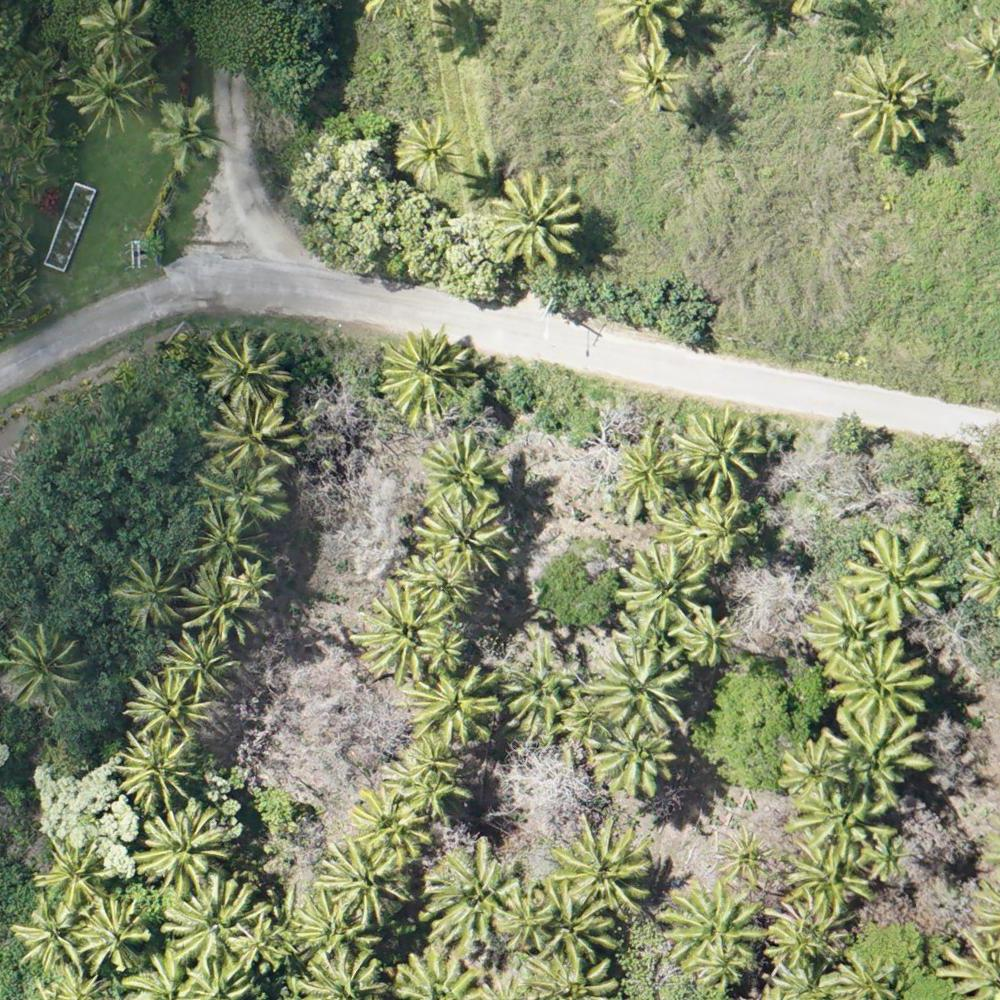Palm: (835, 50, 937, 154), (552, 814, 655, 914), (593, 632, 695, 731), (661, 881, 764, 979), (826, 706, 930, 800), (825, 634, 926, 729), (378, 325, 473, 424), (430, 844, 519, 947), (849, 530, 943, 625), (355, 583, 450, 674), (162, 876, 261, 963), (614, 541, 706, 633), (315, 835, 405, 925), (415, 491, 508, 578), (486, 168, 575, 258), (347, 780, 438, 862), (205, 398, 299, 477), (676, 410, 765, 493), (406, 662, 497, 743), (784, 827, 873, 909), (202, 449, 291, 529), (8, 619, 90, 705), (539, 896, 621, 980), (137, 815, 222, 896), (126, 666, 217, 740), (206, 327, 291, 406), (186, 560, 263, 647), (187, 498, 273, 574), (120, 731, 201, 811), (803, 588, 884, 667), (8, 893, 86, 975), (69, 55, 148, 132), (292, 893, 371, 968), (34, 838, 117, 908), (596, 725, 676, 796), (157, 626, 236, 697), (612, 434, 684, 509), (149, 96, 220, 172), (776, 734, 850, 805), (424, 429, 498, 498), (115, 554, 185, 626), (80, 897, 148, 969), (615, 47, 689, 110), (83, 2, 155, 66), (688, 497, 757, 562), (396, 112, 458, 183), (402, 546, 474, 607), (762, 906, 830, 966), (398, 734, 463, 791), (682, 606, 743, 665), (500, 895, 558, 956), (713, 827, 770, 882), (226, 922, 286, 974), (698, 936, 752, 989), (417, 623, 469, 676), (861, 829, 913, 881), (232, 559, 281, 609)
